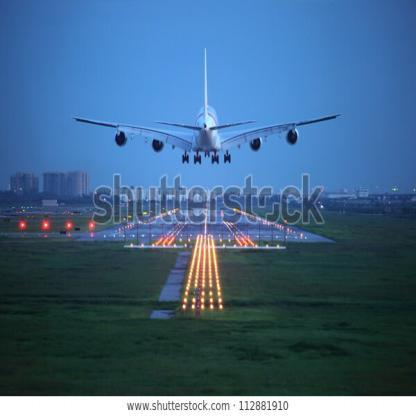CIV_Plane: (65, 43, 344, 168)
